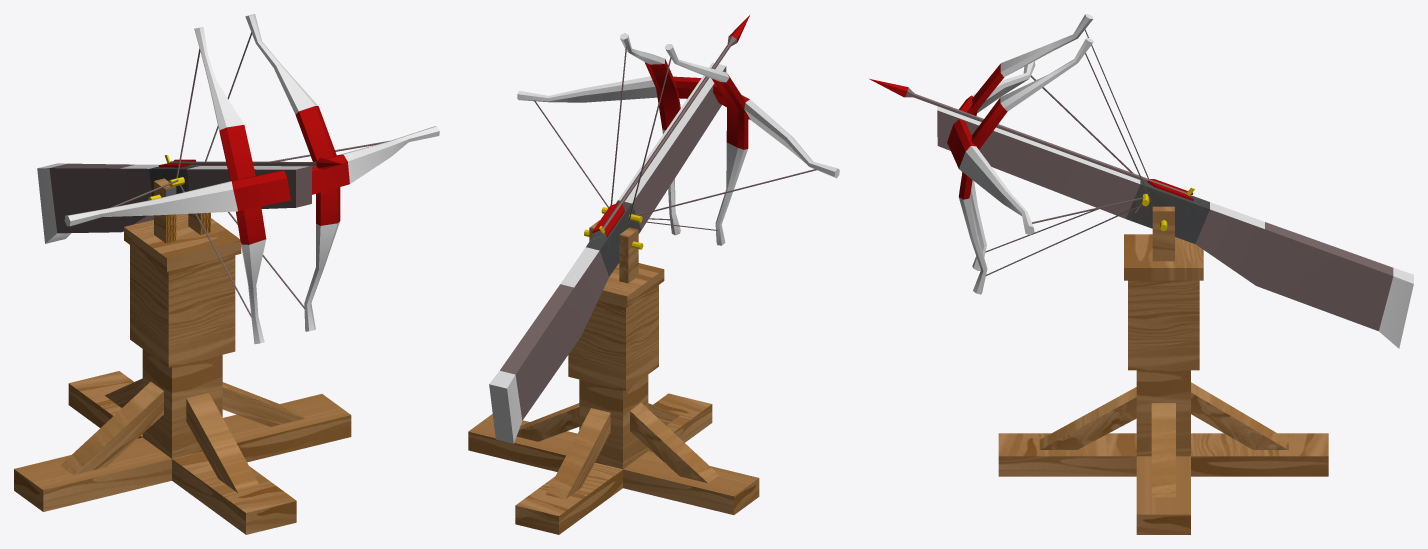
File: may ban ten lv2.fbx
3 renders of one model, left to right at view 1: azimuth 30°, elevation 25°; view 2: azimuth 150°, elevation 25°; view 3: azimuth 270°, elevation 25°, orthographic. The views are drawn at different scales.
Parts seen in each view (by area): view 1: may_ban_ten_lv2; view 2: may_ban_ten_lv2; view 3: may_ban_ten_lv2.
Boxes of the visible parts, left/top/right/bottom form: may_ban_ten_lv2: left=14, top=14, right=439, bottom=534; may_ban_ten_lv2: left=468, top=15, right=839, bottom=534; may_ban_ten_lv2: left=869, top=14, right=1413, bottom=534.
Bounding box in the file's own units: 5.83 × 7.14 × 8.03.
6 materials, 1 textured.
